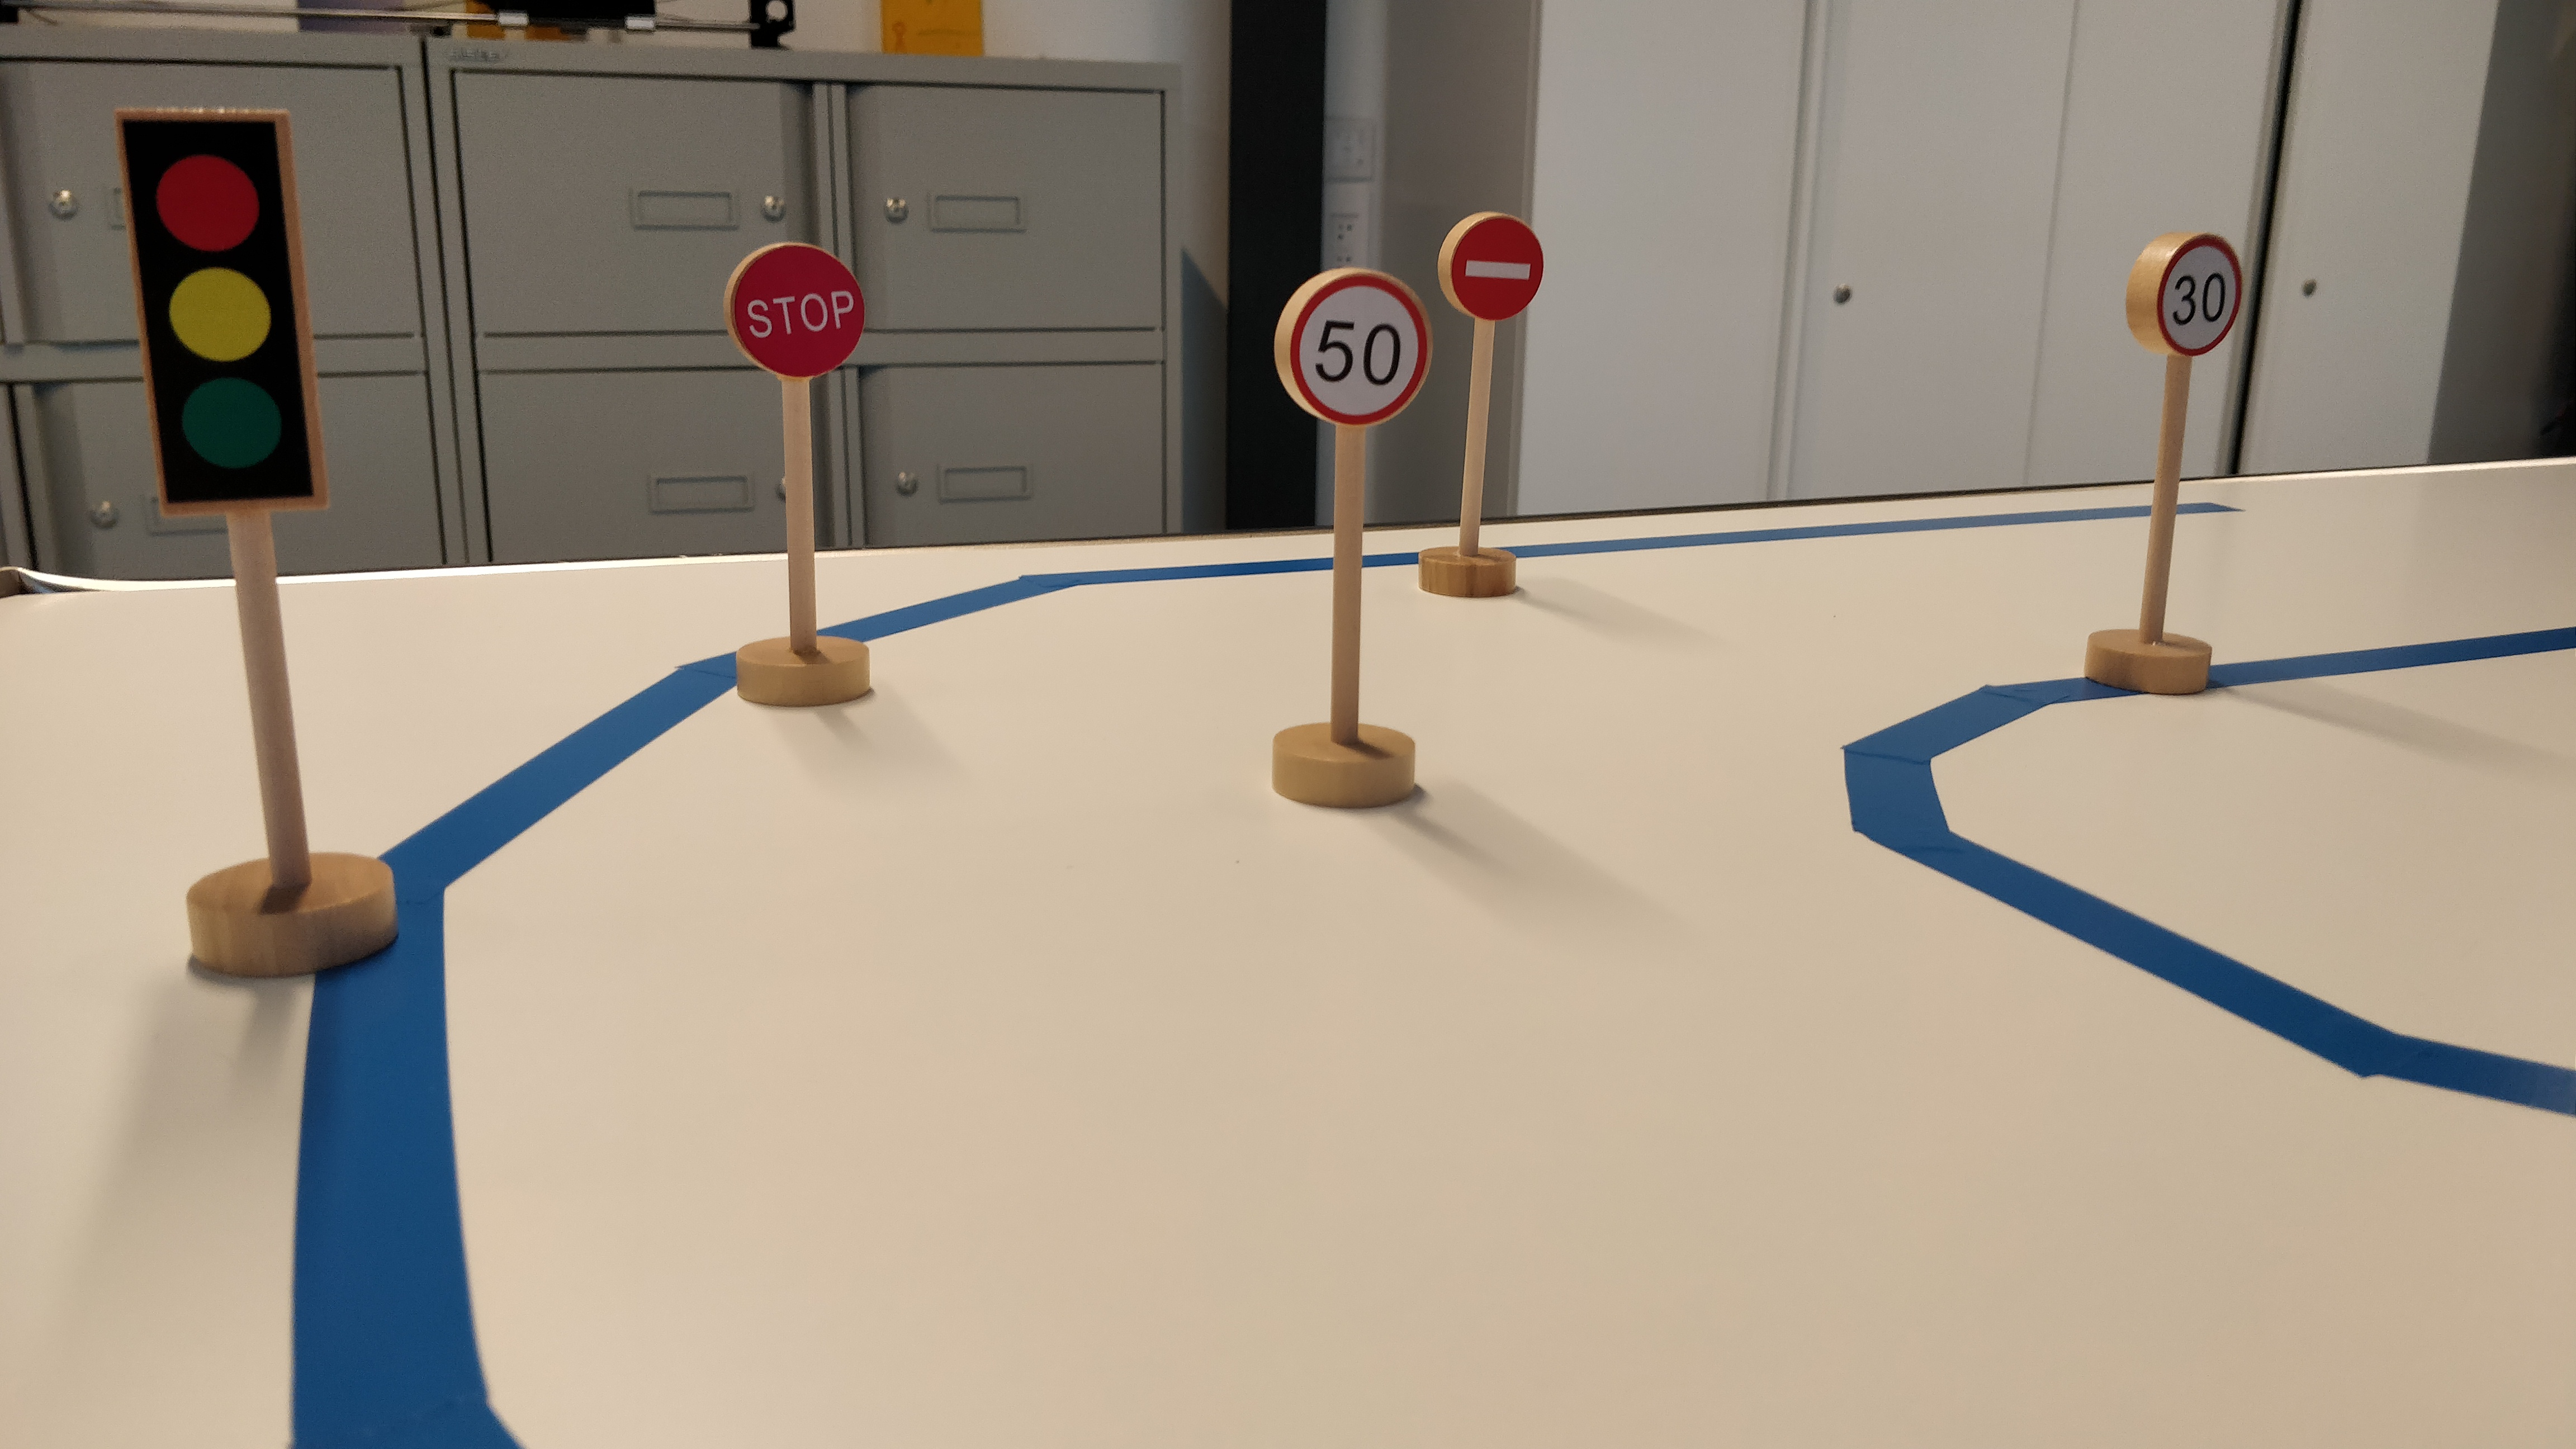Prohibition Sign: (1437, 208, 1547, 325)
Speed Limit 30: (2123, 227, 2249, 359)
Speed Limit 50: (1268, 266, 1436, 430)
Stop Sign: (721, 243, 868, 381)
Traffic Light: (113, 106, 334, 521)
